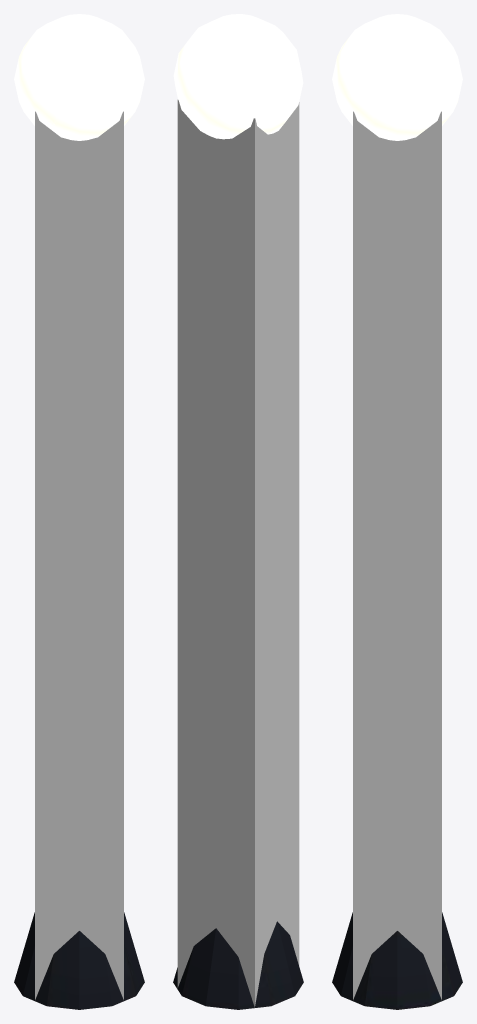
The model's file is lamp_post.glb.
3 renders of one model, left to right at view 1: azimuth 90°, elevation 25°; view 2: azimuth 150°, elevation 25°; view 3: azimuth 270°, elevation 25°, orthographic.
Parts seen in each view (by area): view 1: COL_Pole, LampPost; view 2: COL_Pole, LampPost; view 3: COL_Pole, LampPost.
Boxes of the visible parts, x1,y1,x2,y2 form: COL_Pole: (35, 111, 123, 999); LampPost: (14, 14, 144, 1009); COL_Pole: (177, 99, 299, 1007); LampPost: (173, 14, 303, 1009); COL_Pole: (353, 111, 441, 999); LampPost: (332, 14, 462, 1009).
Size of the model in its own units: 0.4402 by 3.57 by 0.4402.
2 materials, 2 textured.
